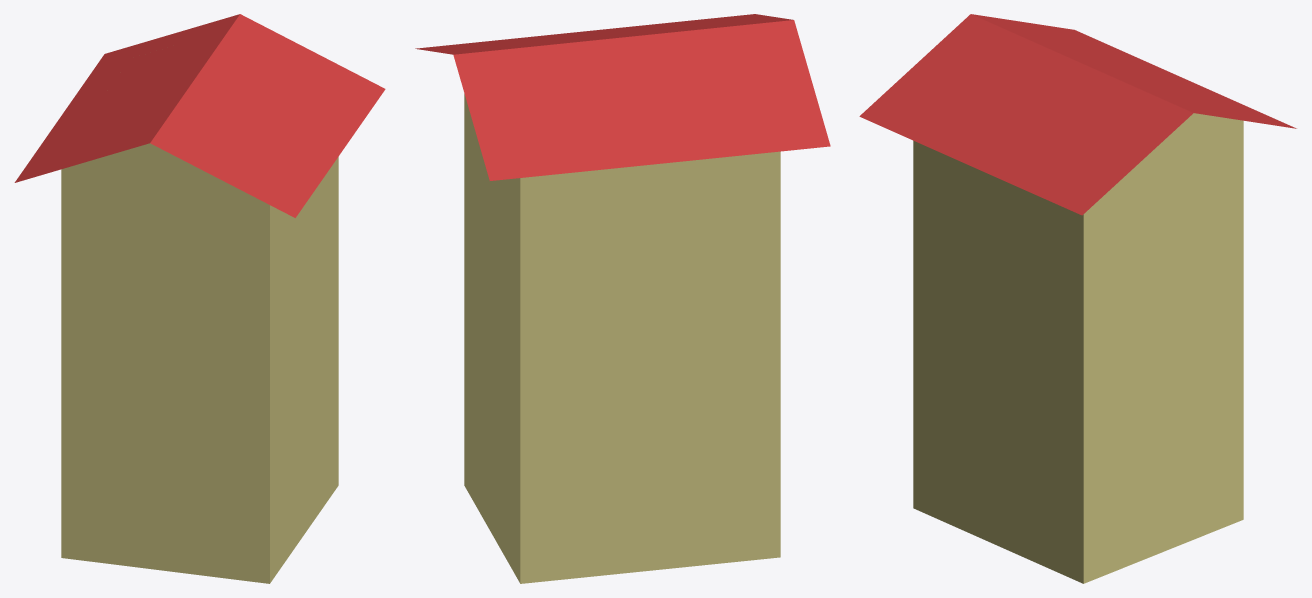
The picture shows the model from 3 angles, left to right: view 1: azimuth 30°, elevation 25°; view 2: azimuth 150°, elevation 25°; view 3: azimuth 270°, elevation 25°; orthographic projection. The views are drawn at different scales.
Bounding box in the file's own units: 5.74 × 5.72 × 6.46.
